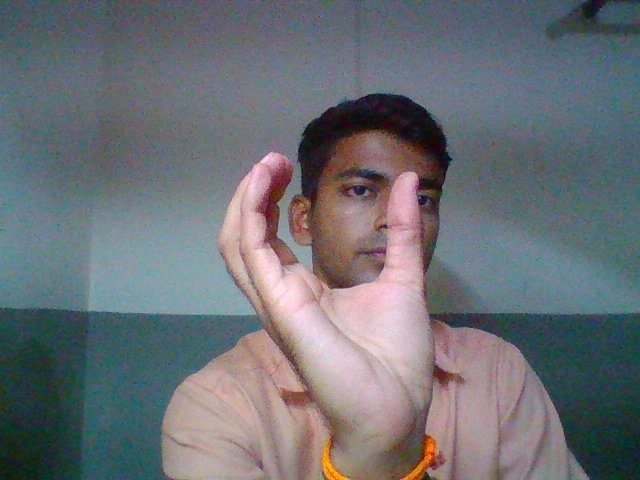U: (209, 143, 465, 456)
